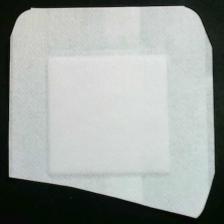Cut: (5, 4, 221, 221)
